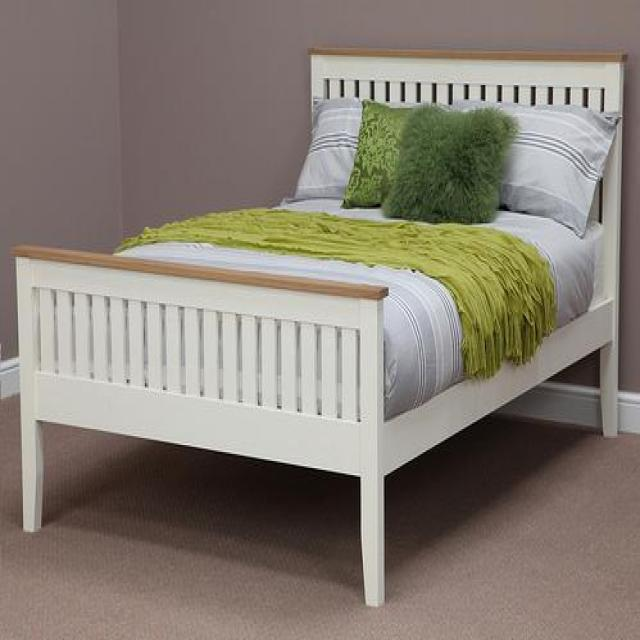bed: (14, 40, 631, 610)
